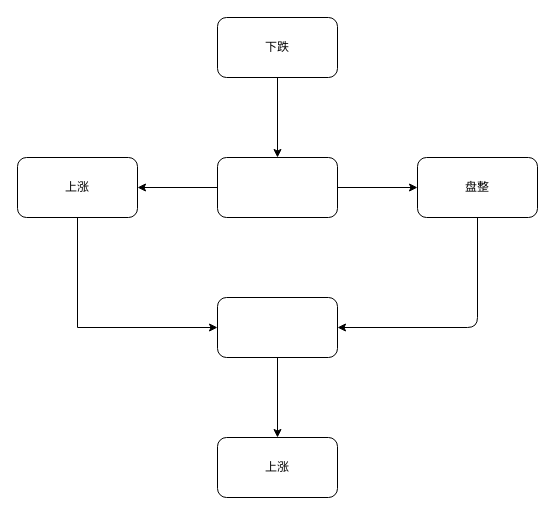
Some shapes in this 555 by 515 pixel diagram are drawn without their labels. Each missing label, with the centre of its shape:
完成：第一类买点: the point at 277,187
第二类买点: the point at 277,327
